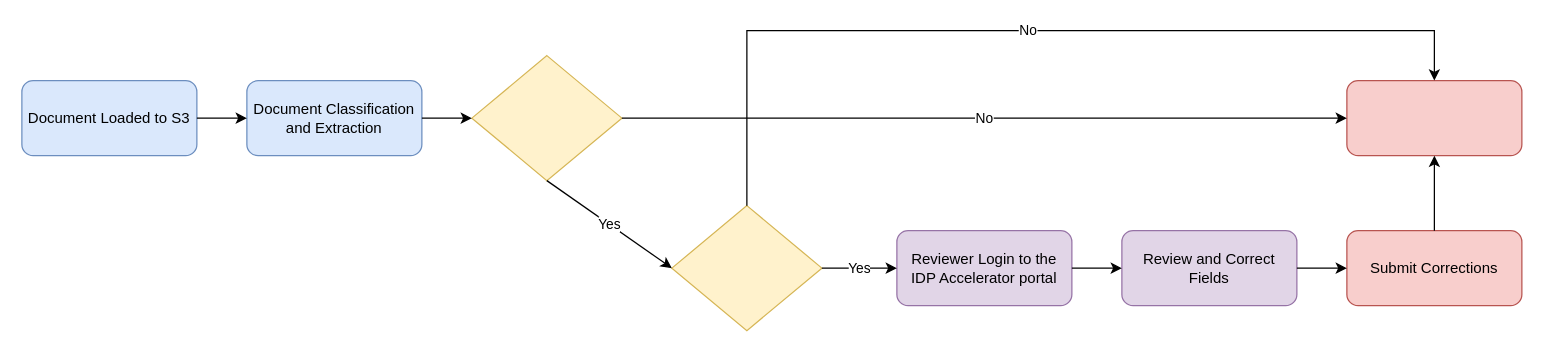
Image size: 1544x353. Some labels were removed from this diagram. The centre of each missing label's shape, as x and y in pixels:
Is Confidence Score < Threshold?: point (746, 267)
Is HITL Toggle enabled in Configuration?: point (546, 117)
Store Corrected Results to S3: point (1434, 117)
